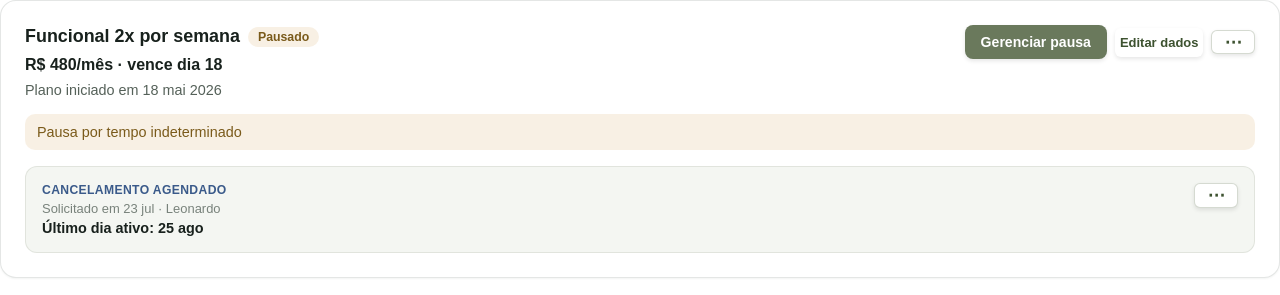
Test case: PatientPlanDetailView › representa estados do plano e mantém ações raras no menu
Expected: the text "Pausado" is shown, x1=248 y1=27 x2=319 y2=47
Expected: the button "Gerenciar pausa" is shown, x1=965 y1=25 x2=1107 y2=59
Click the button named "Ações do plano" at (1233, 42), box x1=1211 y1=30 x2=1255 y2=54
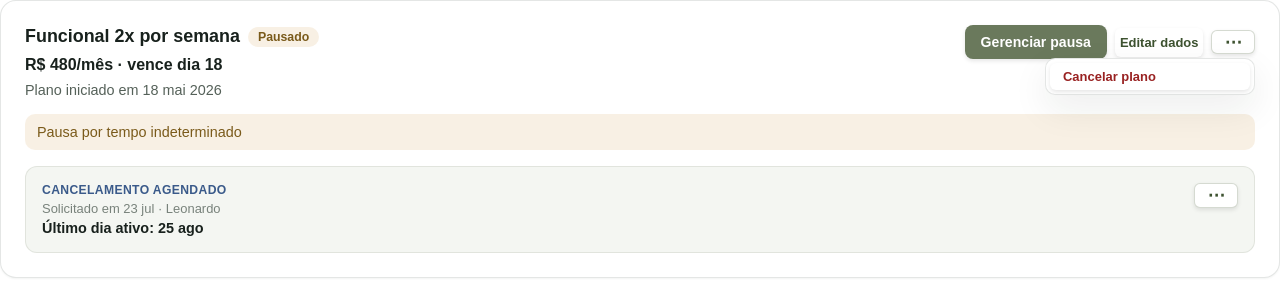
Result: the menu item "Cancelar plano" is shown at x1=1050 y1=63 x2=1250 y2=90
